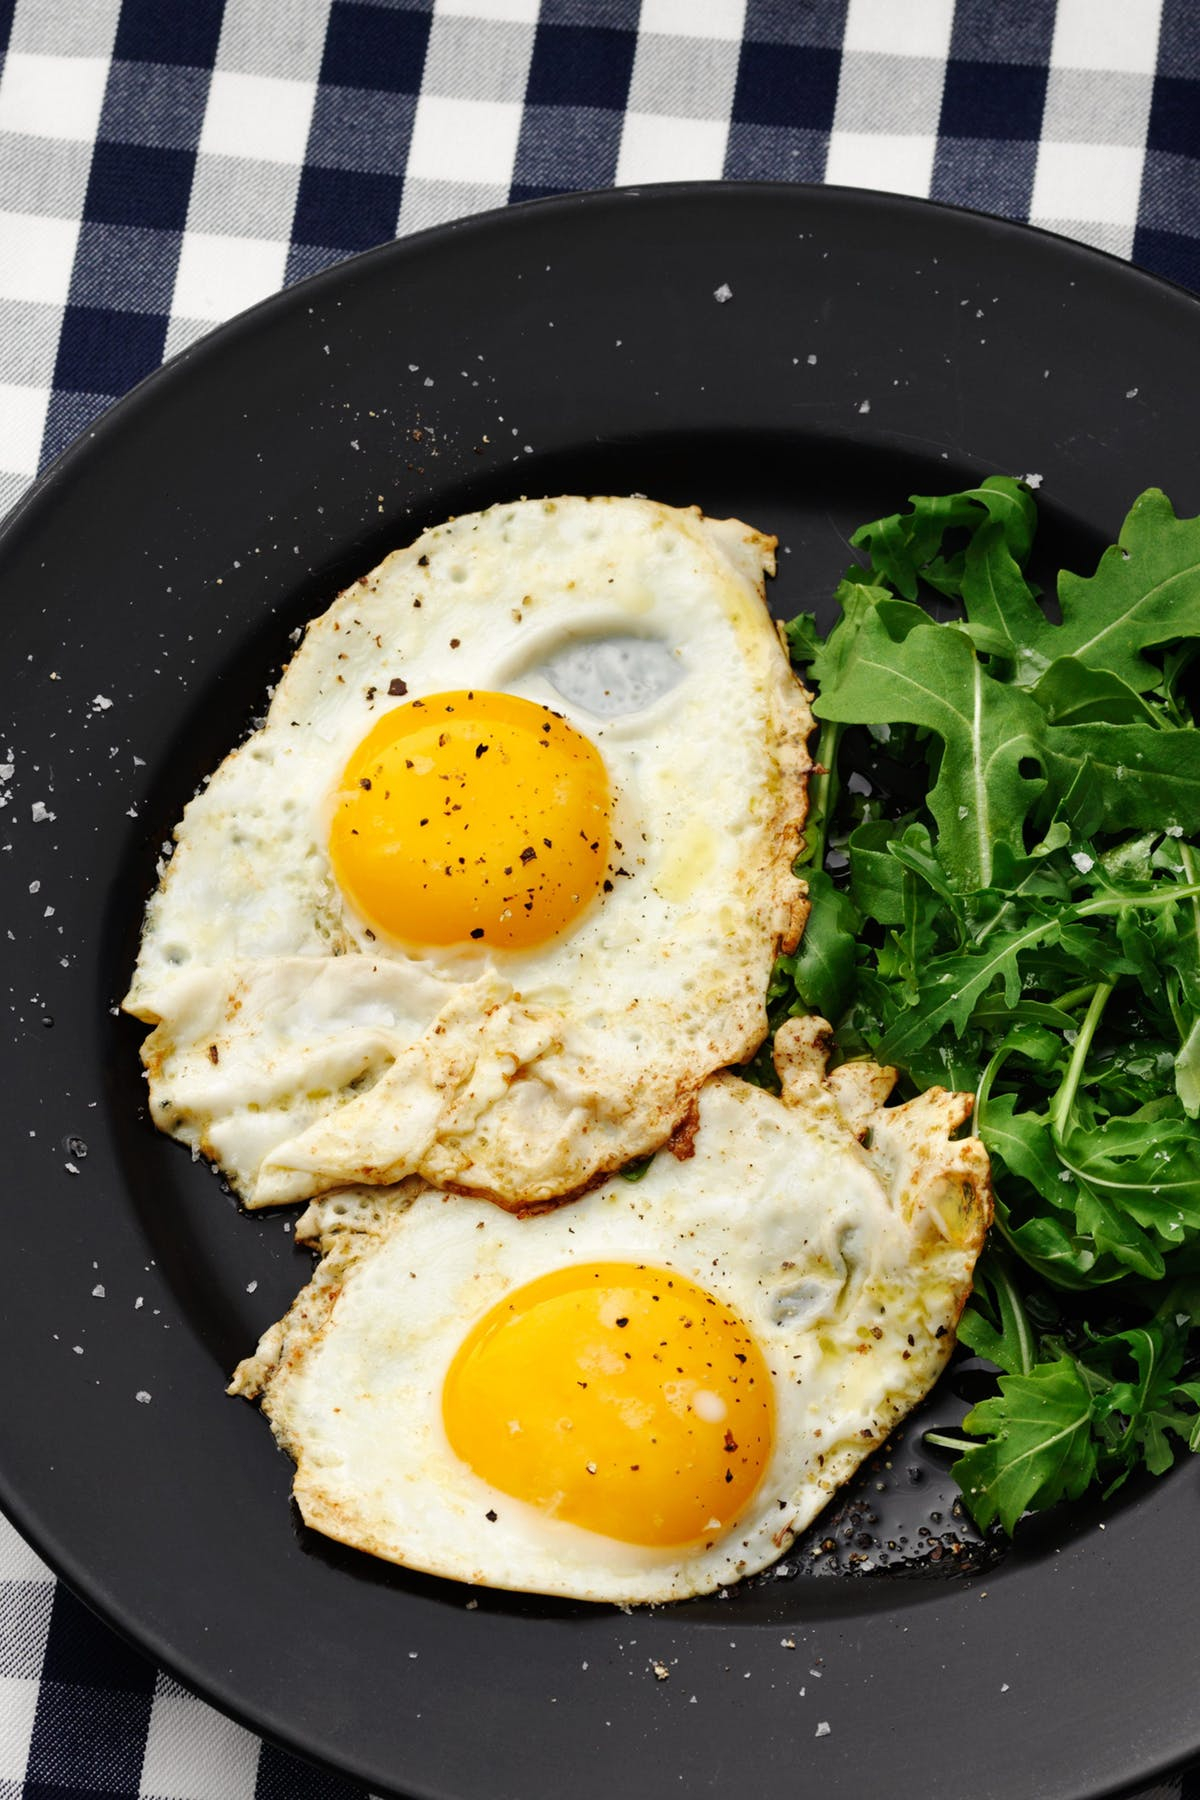fried egg: (311, 651, 771, 1527)
